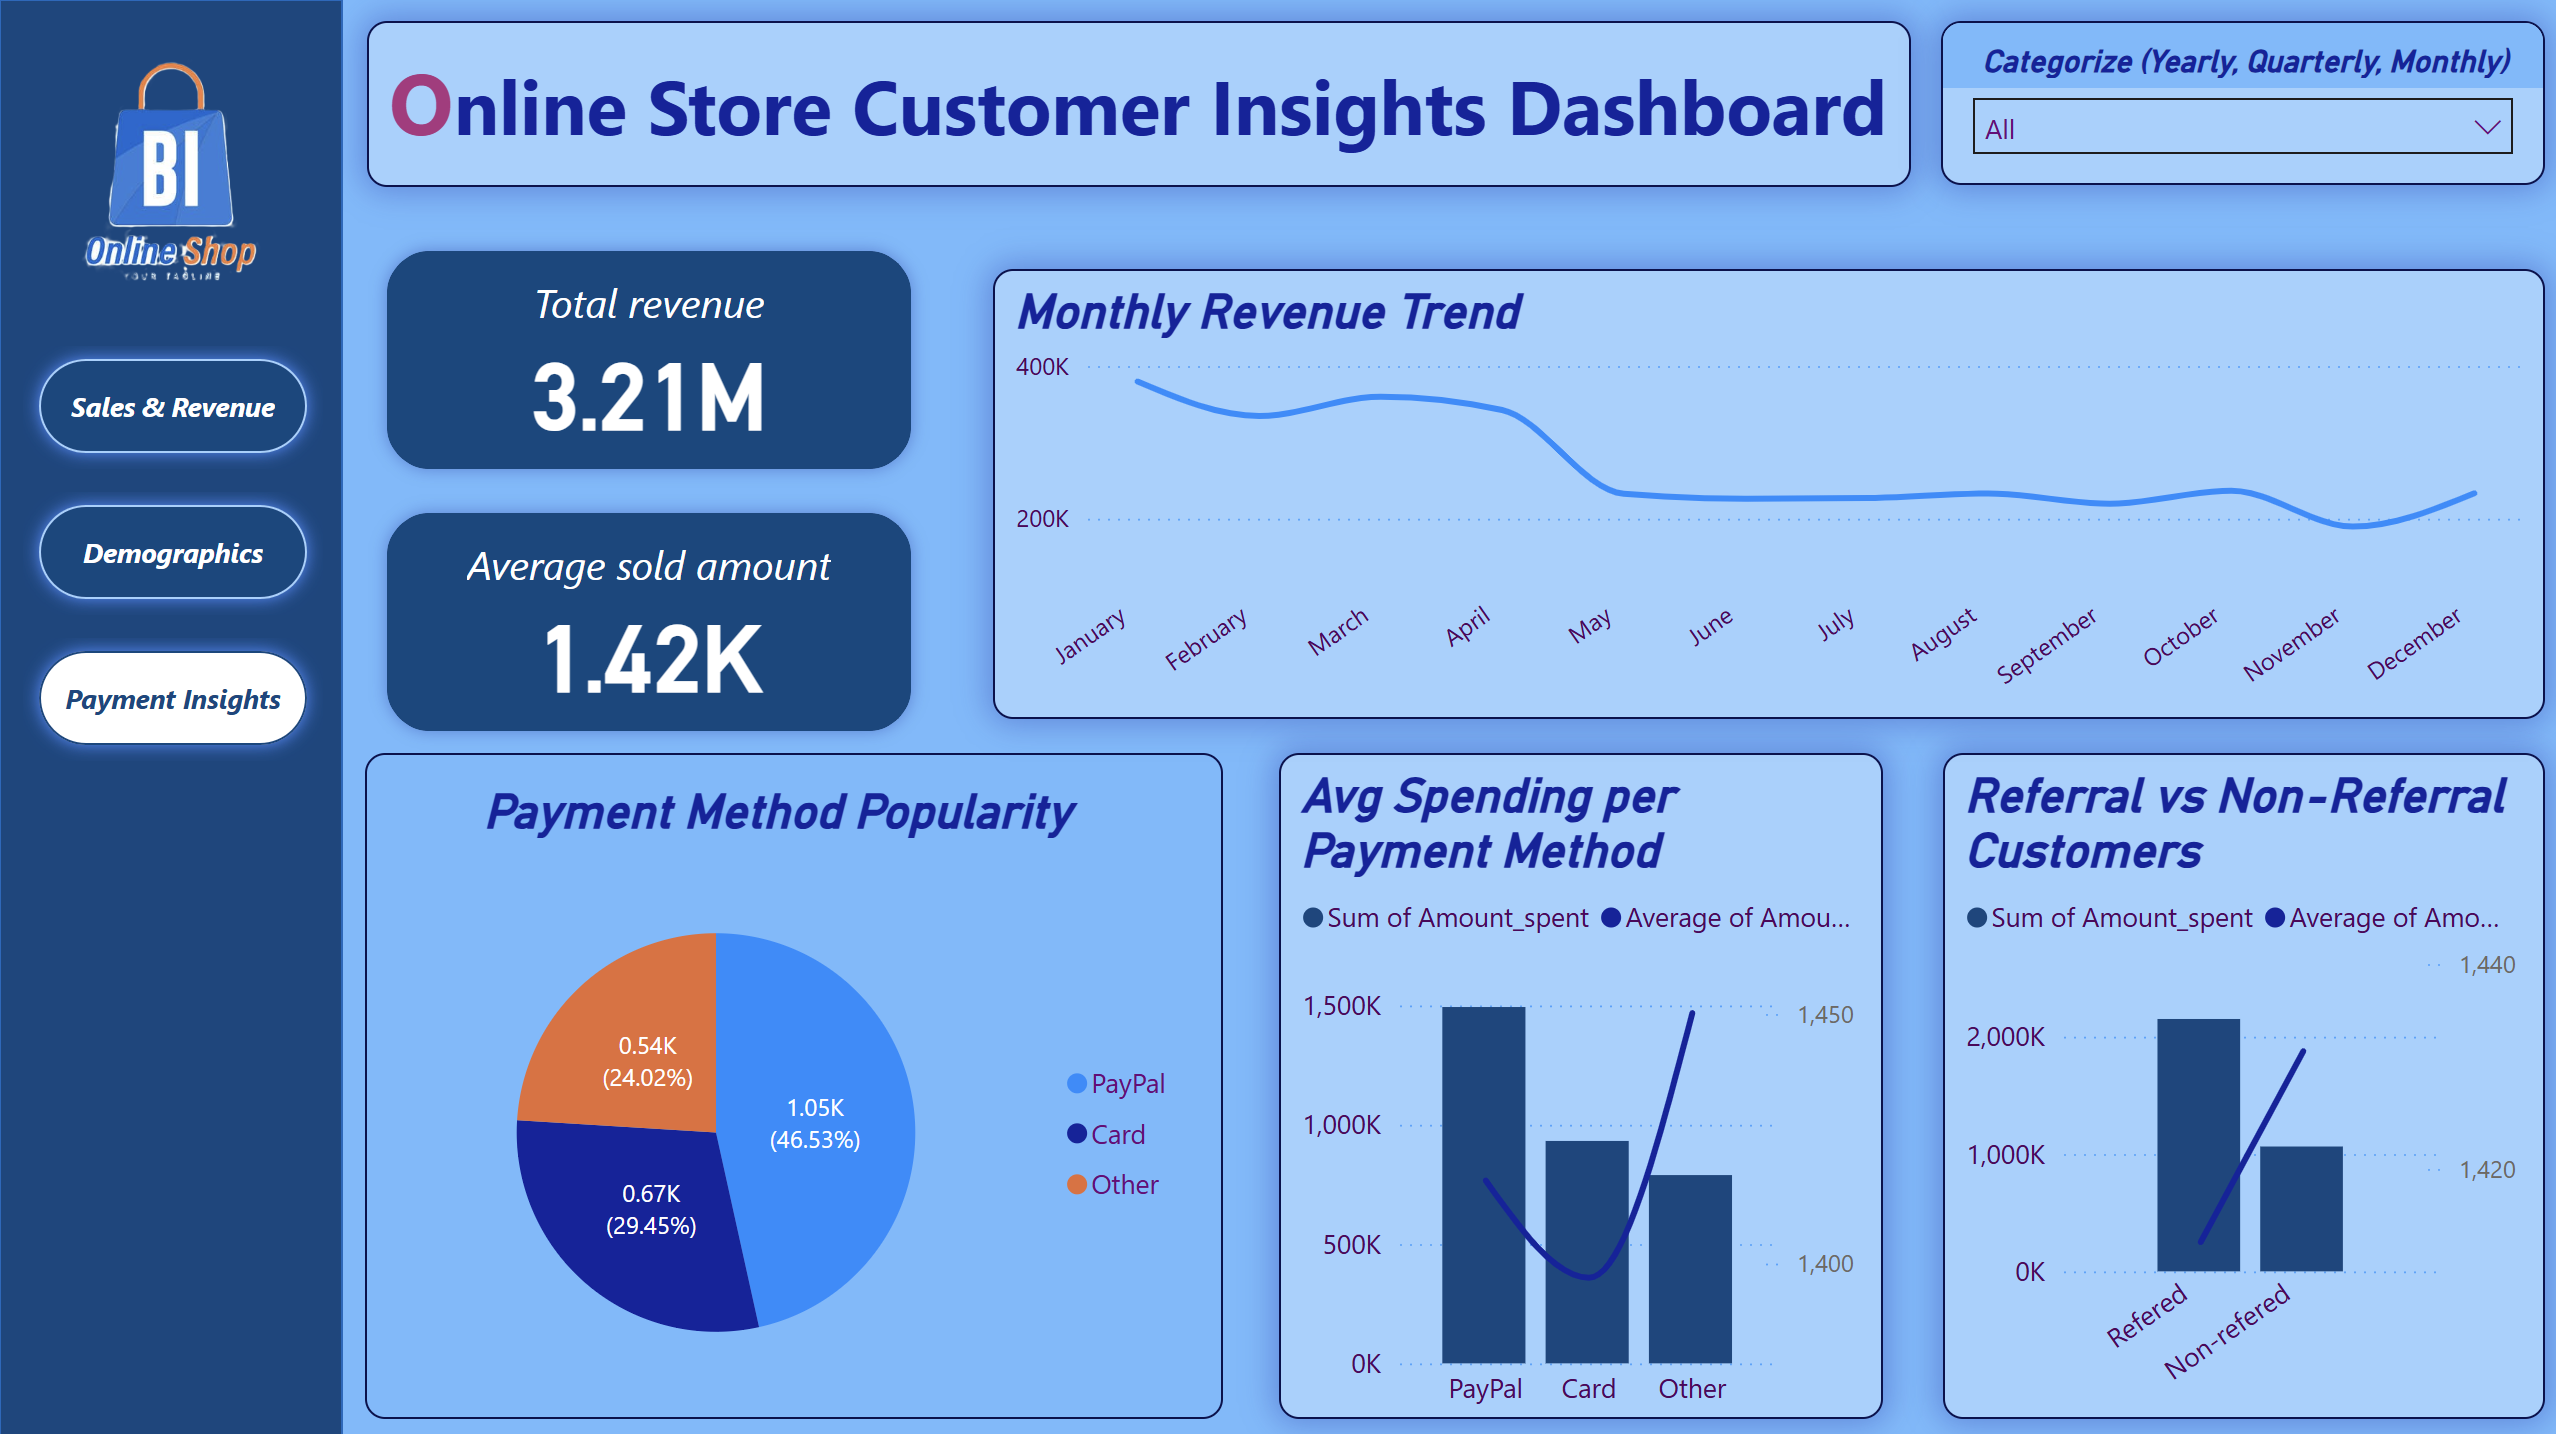

What the dashboard file says about the page in this screenshot:
{"tool":"powerbi","page":{"name":"Payment Insights","canvas":[1280,720],"ordinal":2},"visuals":[{"type":"textbox","box":[183.6,11.5,772.6,82.9],"z":0},{"type":"slicer","title":"Categorize (Yearly, Quarterly, Monthly)","fields":{"Values":["final_customer_data.Transaction_date.Variation.Date Hierarchy.Year","final_customer_data.Transaction_date.Variation.Date Hierarchy.Quarter","final_customer_data.Transaction_date.Variation.Date Hierarchy.Month"]},"box":[971.4,11.1,301.2,81.5],"z":1000},{"type":"group","id":"g1","title":"Group 1","box":[0,0,172.1,720.3],"z":2000},{"type":"pieChart","title":"Payment Method Popularity","fields":{"Category":["final_customer_data.Payment_method"],"Y":["CountNonNull(final_customer_data.Payment_method)"]},"box":[183.3,376.7,428.3,333.3],"z":3000},{"type":"shape","box":[0,0,172.1,720.3],"z":4000,"group":"g2"},{"type":"lineStackedColumnComboChart","title":" Avg Spending per Payment Method","fields":{"Category":["final_customer_data.Payment_method"],"Y":["Sum(final_customer_data.Amount_spent)"],"Y2":["Avg(final_customer_data.Amount_spent)"]},"box":[640,376.7,301.7,333.3],"z":4000},{"type":"lineClusteredColumnComboChart","title":"Referral vs Non-Referral Customers","fields":{"Category":["final_customer_data.Referal"],"Y":["Sum(final_customer_data.Amount_spent)"],"Y2":["Avg(final_customer_data.Amount_spent)"]},"box":[971.7,376.7,301.7,333.3],"z":5000},{"type":"cardVisual","title":"Revenue ","fields":{"Data":["Sum(final_customer_data.Amount_spent)","Avg(final_customer_data.Amount_spent)"]},"box":[183.3,115,283.3,261.7],"z":6000},{"type":"lineChart","title":"Monthly Revenue Trend","fields":{"Category":["final_customer_data.Transaction_date.Variation.Date Hierarchy.Month"],"Y":["Sum(final_customer_data.Amount_spent)"]},"box":[496.7,135,776.7,225],"z":7000},{"type":"group","id":"g2","title":"Group 3","box":[0,0,172.1,720.3],"z":7001,"group":"g3"},{"type":"image","box":[0,0,171.7,171.7],"z":8000,"group":"g2"},{"type":"group","id":"g3","title":"Group 2","box":[0,0,172.1,720.3],"z":8001,"group":"g1"},{"type":"pageNavigator","box":[11.7,171.7,150,210],"z":13000,"group":"g2"}]}

Visuals, with their boxes in screenshot pixels (x1, y1, x2, y2), scaled from the page's 1280x720 canvas onto the 2556x1434 screenshot:
textbox: (367, 23, 1909, 188)
"Categorize (Yearly, Quarterly, Monthly)" slicer: (1940, 22, 2541, 184)
"Group 1" group: (0, 0, 344, 1433)
"Payment Method Popularity" pieChart: (366, 750, 1221, 1414)
shape: (0, 0, 344, 1433)
" Avg Spending per Payment Method" lineStackedColumnComboChart: (1278, 750, 1880, 1414)
"Referral vs Non-Referral Customers" lineClusteredColumnComboChart: (1940, 750, 2543, 1414)
"Revenue " cardVisual: (366, 229, 932, 750)
"Monthly Revenue Trend" lineChart: (992, 269, 2543, 717)
"Group 3" group: (0, 0, 344, 1433)
image: (0, 0, 343, 342)
"Group 2" group: (0, 0, 344, 1433)
pageNavigator: (23, 342, 323, 760)
